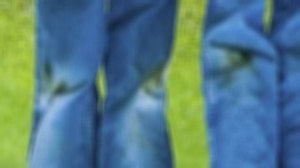earth: (40, 68, 61, 93), (143, 68, 165, 90), (230, 50, 253, 68)
